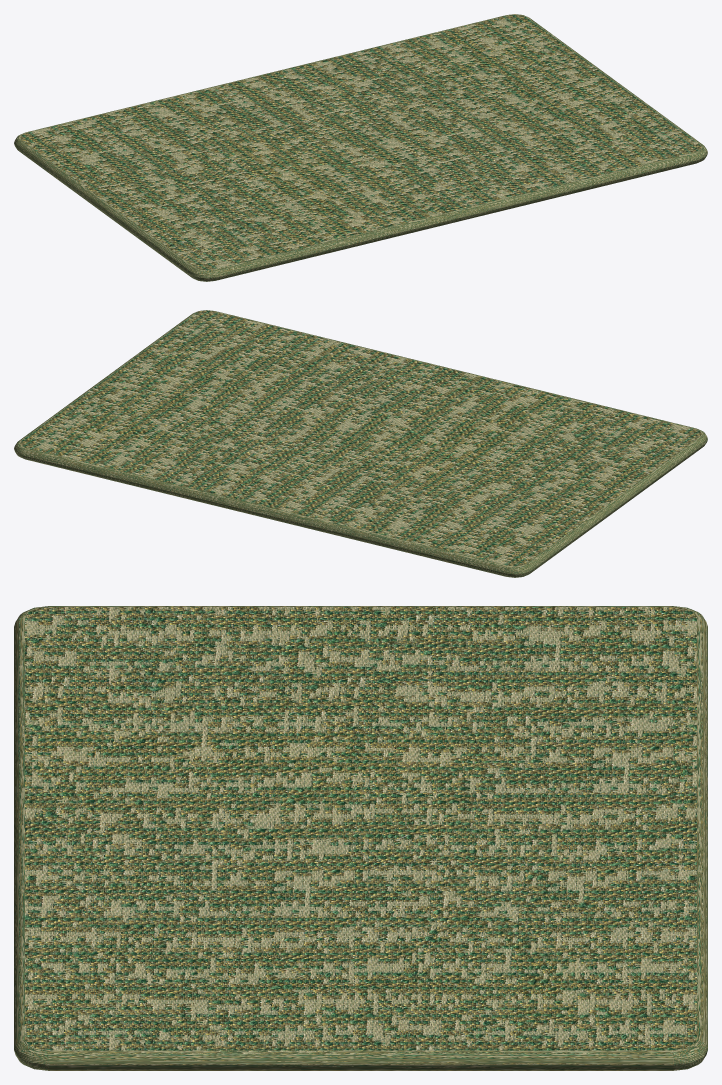
The model's file is foot_mat 1.fbx.
3 renders of one model, top to bottom at view 1: azimuth 30°, elevation 25°; view 2: azimuth 150°, elevation 25°; view 3: azimuth 270°, elevation 25°, orthographic. The views are drawn at different scales.
Parts seen in each view (by area): view 1: foot_mat; view 2: foot_mat; view 3: foot_mat.
Part boxes in pixels (left/top/right/bottom): foot_mat: left=14, top=14, right=707, bottom=281; foot_mat: left=14, top=310, right=707, bottom=577; foot_mat: left=14, top=606, right=707, bottom=1070.
Size of the model in its own units: 0.0401 by 0.000819 by 0.026.
Materials: 1 (1 with a texture image).
